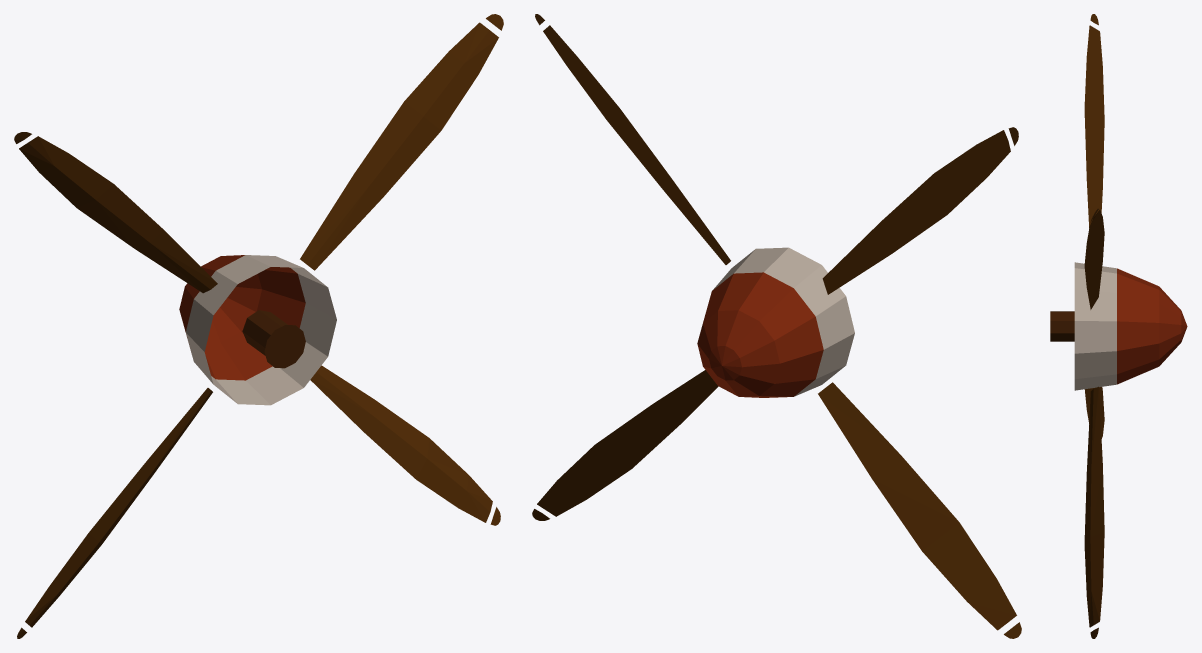
File: Prop_2sikiDaitei.obj
3 renders of one model, left to right at view 1: azimuth 30°, elevation 25°; view 2: azimuth 150°, elevation 25°; view 3: azimuth 270°, elevation 25°, orthographic. The views are drawn at different scales.
Parts seen in each view (by area): view 1: ShapeIndexedFaceSet.237_ShapeIndexedFaceSet.238, ShapeIndexedFaceSet.037_ShapeIndexedFaceSet.038, ShapeIndexedFaceSet.031_ShapeIndexedFaceSet.032, ShapeIndexedFaceSet.032_ShapeIndexedFaceSet.033; view 2: ShapeIndexedFaceSet.237_ShapeIndexedFaceSet.238, ShapeIndexedFaceSet.031_ShapeIndexedFaceSet.032, ShapeIndexedFaceSet.037_ShapeIndexedFaceSet.038; view 3: ShapeIndexedFaceSet.237_ShapeIndexedFaceSet.238, ShapeIndexedFaceSet.031_ShapeIndexedFaceSet.032, ShapeIndexedFaceSet.037_ShapeIndexedFaceSet.038, ShapeIndexedFaceSet.032_ShapeIndexedFaceSet.033.
Part boxes in pixels (<box>): ShapeIndexedFaceSet.237_ShapeIndexedFaceSet.238: <box>14,14,503,638</box>; ShapeIndexedFaceSet.037_ShapeIndexedFaceSet.038: <box>186,255,336,405</box>; ShapeIndexedFaceSet.031_ShapeIndexedFaceSet.032: <box>179,255,305,380</box>; ShapeIndexedFaceSet.032_ShapeIndexedFaceSet.033: <box>242,310,305,368</box>; ShapeIndexedFaceSet.237_ShapeIndexedFaceSet.238: <box>532,14,1021,638</box>; ShapeIndexedFaceSet.031_ShapeIndexedFaceSet.032: <box>697,272,823,397</box>; ShapeIndexedFaceSet.037_ShapeIndexedFaceSet.038: <box>712,247,854,396</box>; ShapeIndexedFaceSet.237_ShapeIndexedFaceSet.238: <box>1084,14,1104,638</box>; ShapeIndexedFaceSet.031_ShapeIndexedFaceSet.032: <box>1117,268,1187,384</box>; ShapeIndexedFaceSet.037_ShapeIndexedFaceSet.038: <box>1074,262,1116,390</box>; ShapeIndexedFaceSet.032_ShapeIndexedFaceSet.033: <box>1050,311,1074,341</box>.
Size of the model in its own units: 1.41 by 1.41 by 0.408.
